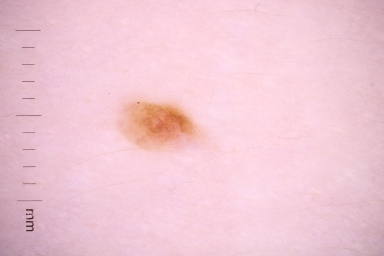nevus: (115, 104, 198, 152)
